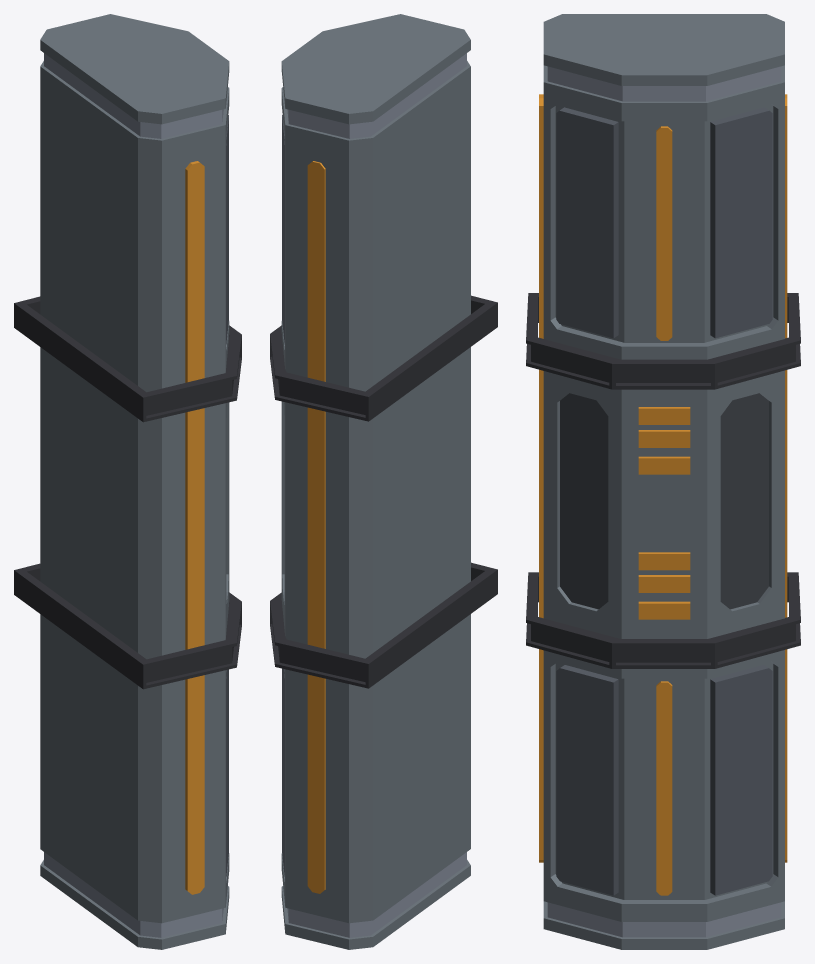
The model's file is SM_Roof_ventilation.glb.
The picture shows the model from 3 angles, left to right: view 1: azimuth 30°, elevation 25°; view 2: azimuth 150°, elevation 25°; view 3: azimuth 270°, elevation 25°; orthographic projection. The views are drawn at different scales.
Visible parts, largest first — view 1: SM_Roof_ventilation; view 2: SM_Roof_ventilation; view 3: SM_Roof_ventilation.
Boxes of the visible parts, <box> form: SM_Roof_ventilation: <box>14,14,241,949</box>; SM_Roof_ventilation: <box>270,14,497,949</box>; SM_Roof_ventilation: <box>526,14,800,949</box>.
Bounding box in the file's own units: 0.3475 × 2 × 0.5698.
1 material, 1 textured.
